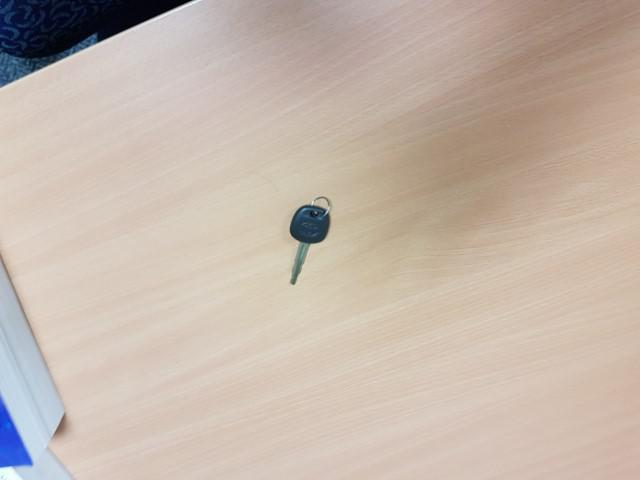key: (290, 204, 330, 286)
